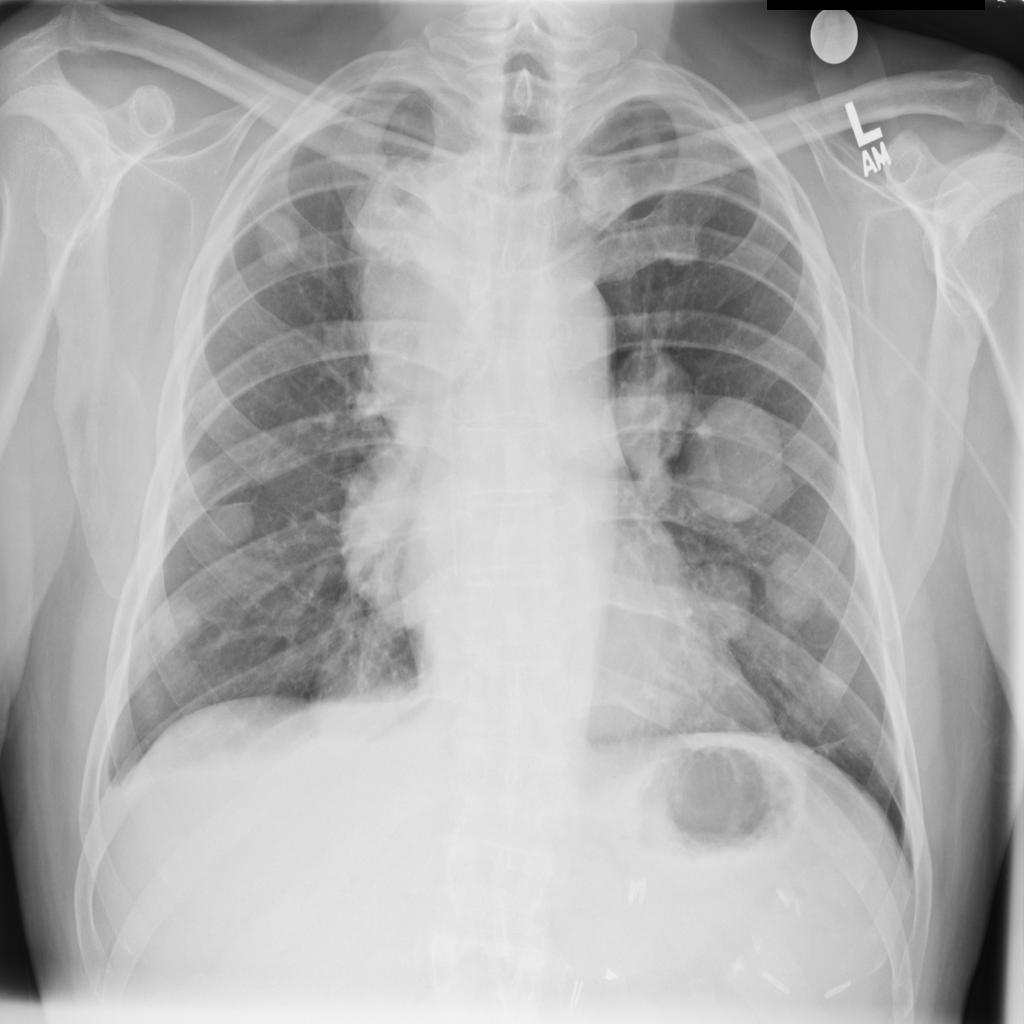nodule: (323, 430, 452, 607), (582, 335, 705, 506), (675, 383, 810, 536), (295, 618, 418, 748), (672, 552, 763, 657), (762, 541, 834, 627), (142, 583, 213, 658), (802, 629, 869, 708), (245, 203, 315, 278), (196, 484, 265, 559), (163, 434, 229, 511)
